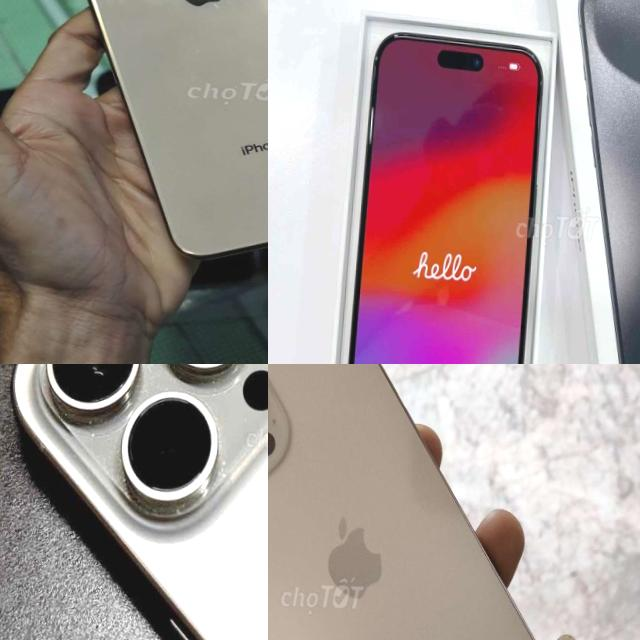scratch: (190, 0, 240, 20)
